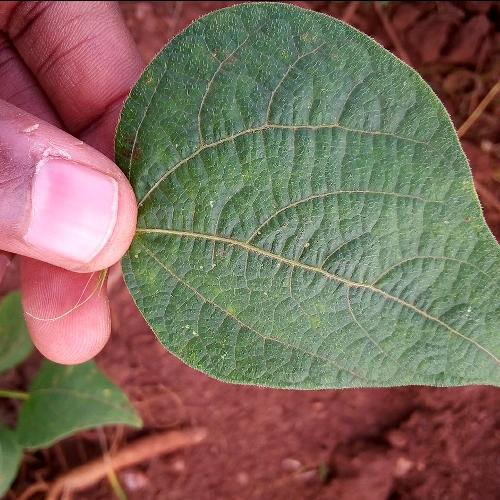embun tepung: (152, 74, 400, 338)
